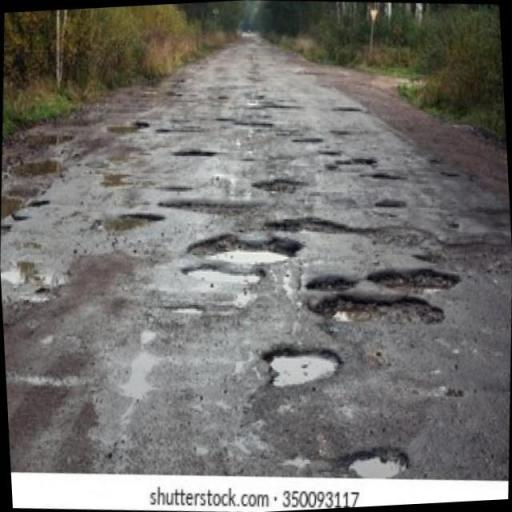pothole: (306, 295, 448, 328), (261, 345, 344, 390), (190, 233, 304, 264), (365, 269, 463, 292), (342, 447, 411, 479), (180, 264, 267, 283), (306, 276, 359, 291)
